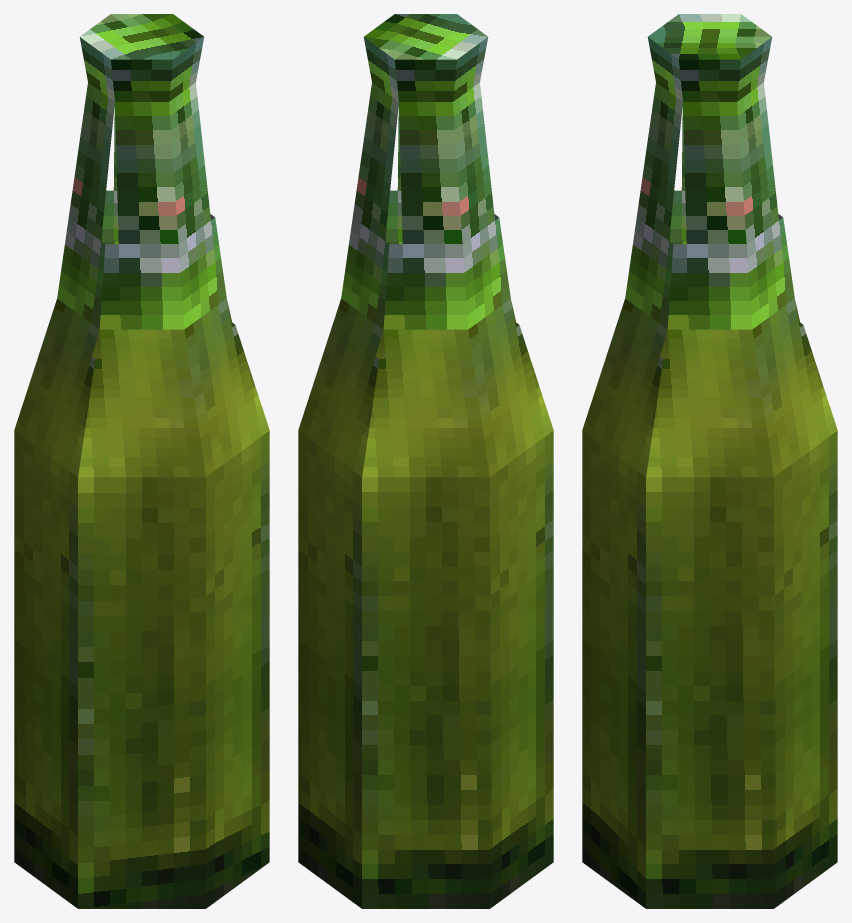
Rendered from Bottle02.obj.
The picture shows the model from 3 angles, left to right: view 1: azimuth 30°, elevation 25°; view 2: azimuth 150°, elevation 25°; view 3: azimuth 270°, elevation 25°; orthographic projection.
Visible parts, largest first — view 1: Bottle02; view 2: Bottle02; view 3: Bottle02.
Boxes of the visible parts, x1,y1,x2,y2 form: Bottle02: [14, 14, 269, 908]; Bottle02: [298, 14, 553, 908]; Bottle02: [582, 14, 837, 908].
Size of the model in its own units: 0.1205 by 0.496 by 0.1392.
